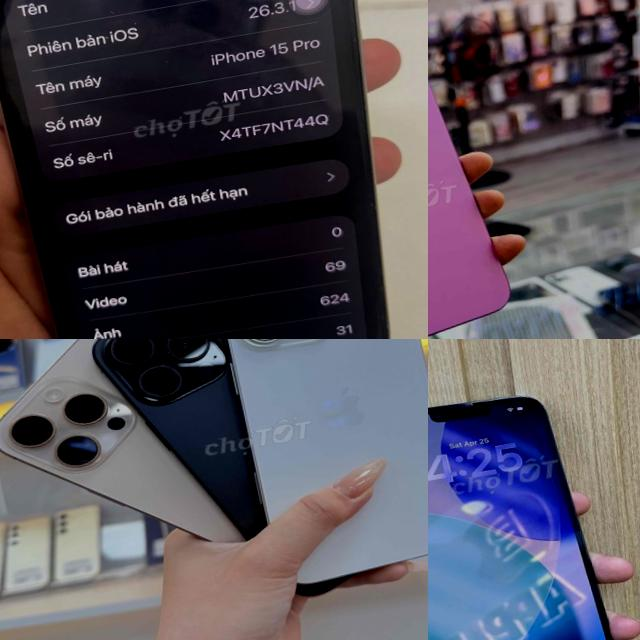gen_12_13: (428, 374, 634, 640)
gen_15: (0, 0, 427, 339)
gen_16: (208, 339, 428, 599), (428, 82, 509, 335)
